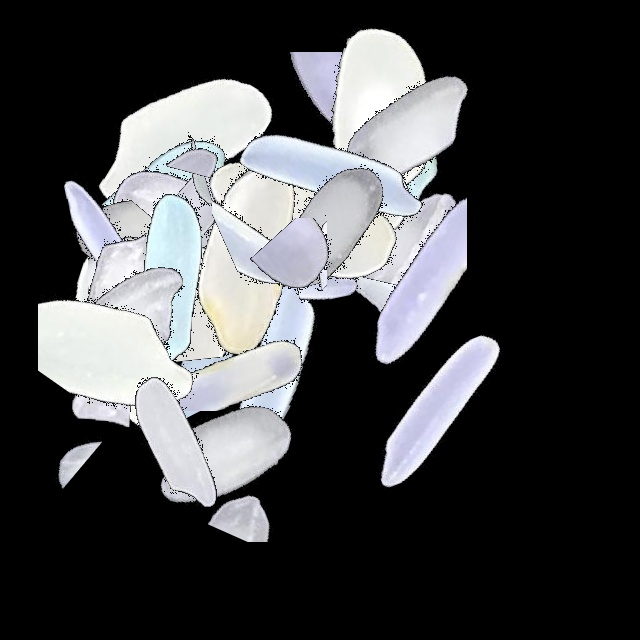Broken: (38, 200, 210, 450), (58, 95, 308, 258), (283, 121, 444, 371), (289, 131, 539, 287), (260, 4, 415, 254), (313, 136, 467, 386), (81, 261, 331, 411), (97, 165, 241, 415), (88, 156, 231, 406), (106, 218, 248, 468), (37, 145, 176, 395), (212, 75, 337, 325), (193, 218, 443, 342), (9, 248, 131, 498), (249, 151, 499, 269), (96, 119, 346, 234), (136, 434, 386, 542), (24, 121, 274, 223), (40, 97, 290, 194), (46, 223, 296, 315), (17, 293, 107, 543), (293, 137, 382, 387), (140, 0, 227, 250), (240, 143, 327, 393)
Full: (146, 244, 396, 494), (212, 88, 462, 338), (45, 188, 295, 438), (38, 136, 288, 386), (246, 0, 496, 250), (270, 0, 520, 250), (56, 19, 306, 269), (30, 135, 280, 385), (315, 285, 565, 535), (2, 208, 252, 458), (252, 0, 502, 250), (193, 99, 443, 349), (50, 90, 300, 340), (93, 159, 343, 409), (156, 120, 406, 370), (181, 91, 431, 341), (118, 135, 368, 385), (101, 330, 351, 580), (282, 0, 532, 250), (0, 138, 250, 388), (207, 52, 457, 302), (215, 100, 465, 350), (0, 162, 250, 412), (46, 163, 296, 413), (0, 196, 250, 446), (49, 318, 299, 568)
